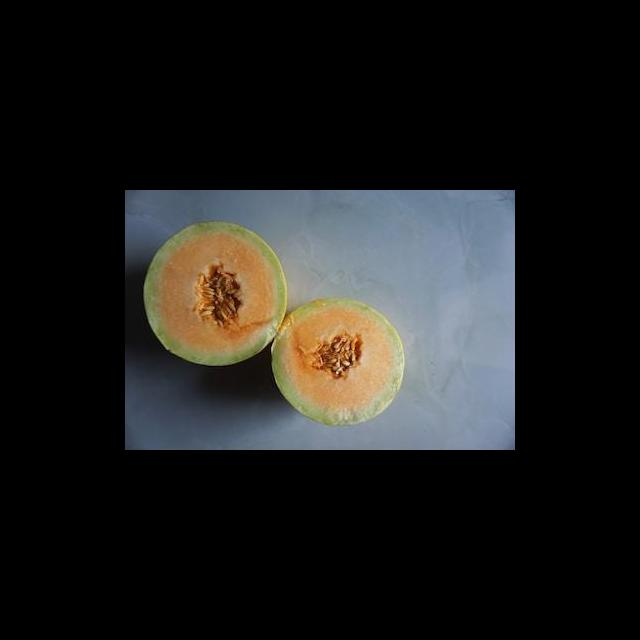Hami Melon: (145, 223, 287, 366), (272, 296, 405, 427)
